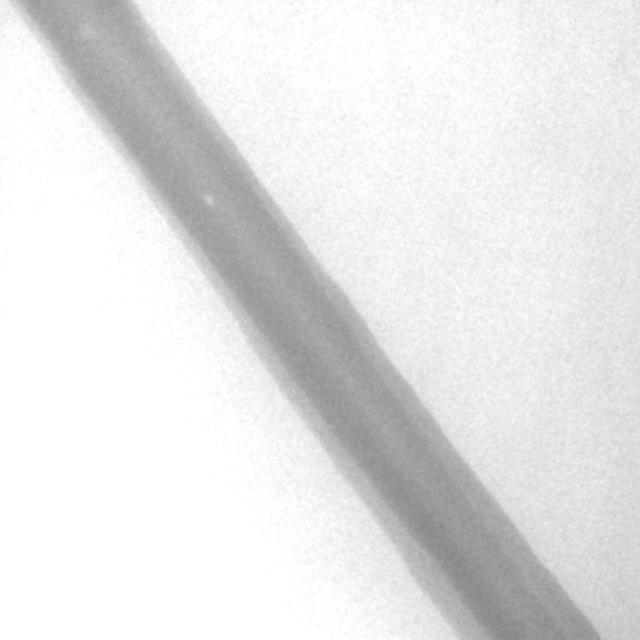air hole: (202, 193, 215, 209)
